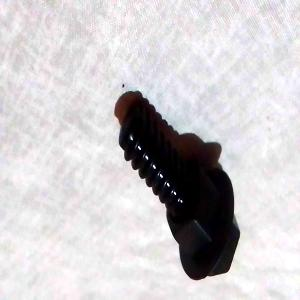parafuso: (117, 95, 239, 283)
